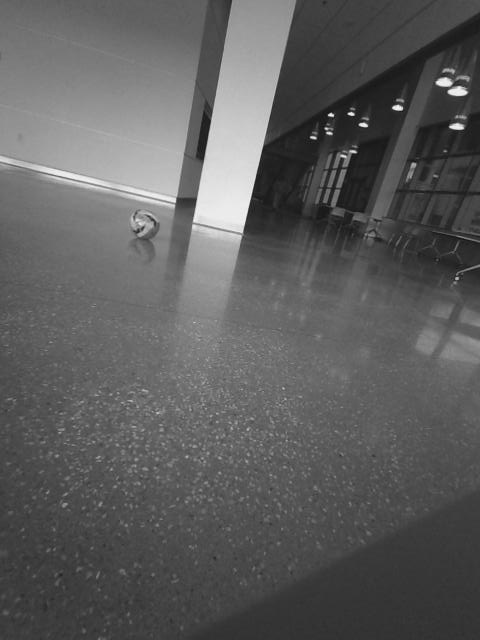ball: (129, 207, 164, 241)
